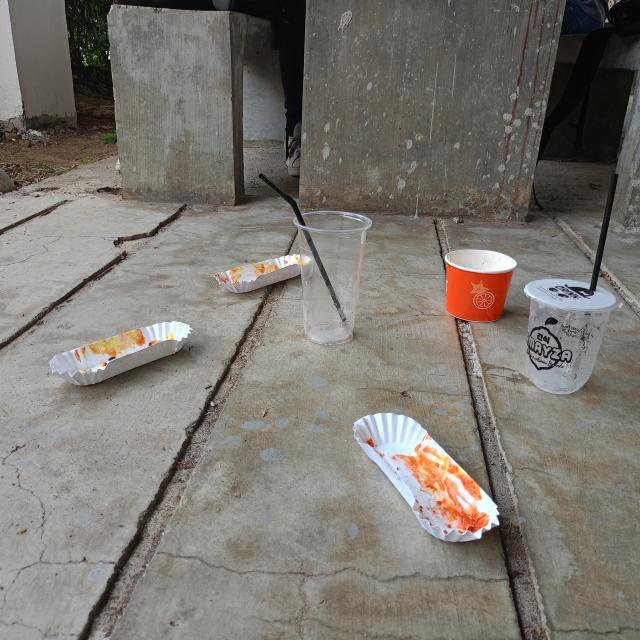recyclable waste: (344, 401, 508, 551), (511, 268, 627, 402), (284, 200, 380, 352), (41, 308, 204, 396), (434, 238, 524, 329), (206, 247, 320, 300)
